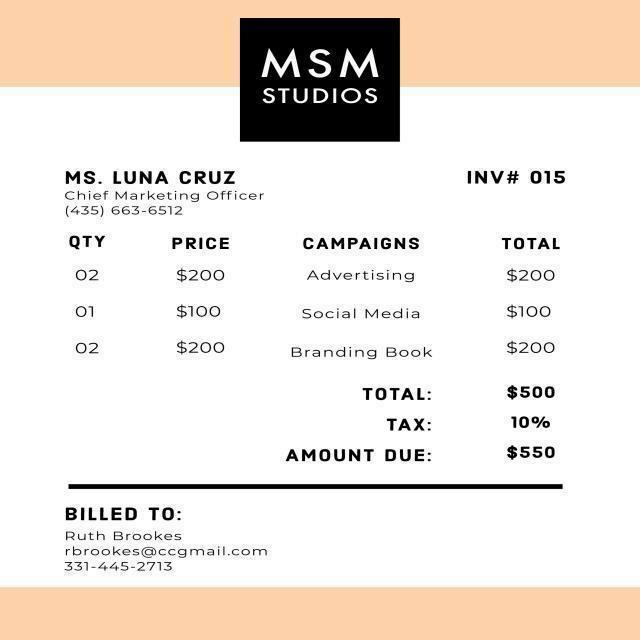paragraph: (285, 384, 563, 468), (64, 502, 272, 587), (56, 165, 269, 223), (258, 40, 384, 118), (466, 165, 568, 194)
table: (58, 233, 586, 366)
